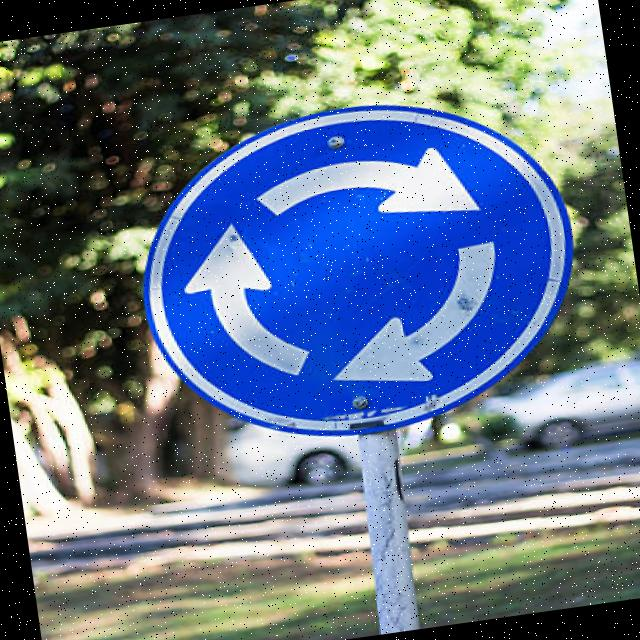round_about: (126, 79, 595, 464)
